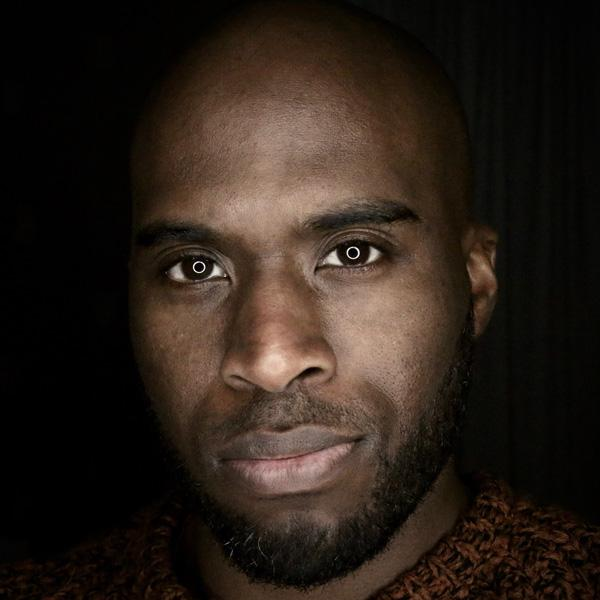Eyes: (143, 241, 242, 304), (309, 226, 401, 287)
